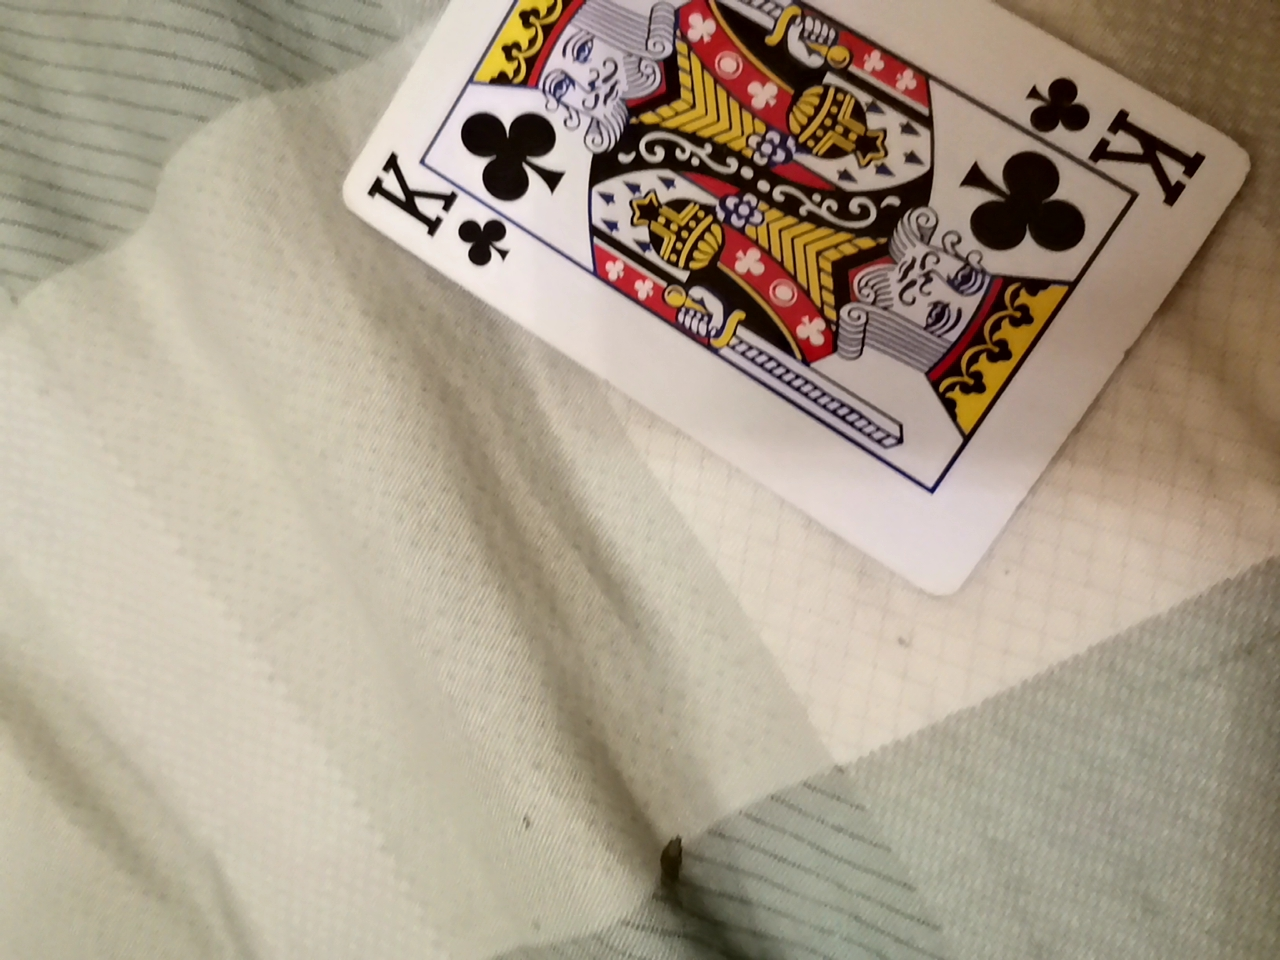mh k: (348, 0, 1242, 617)
